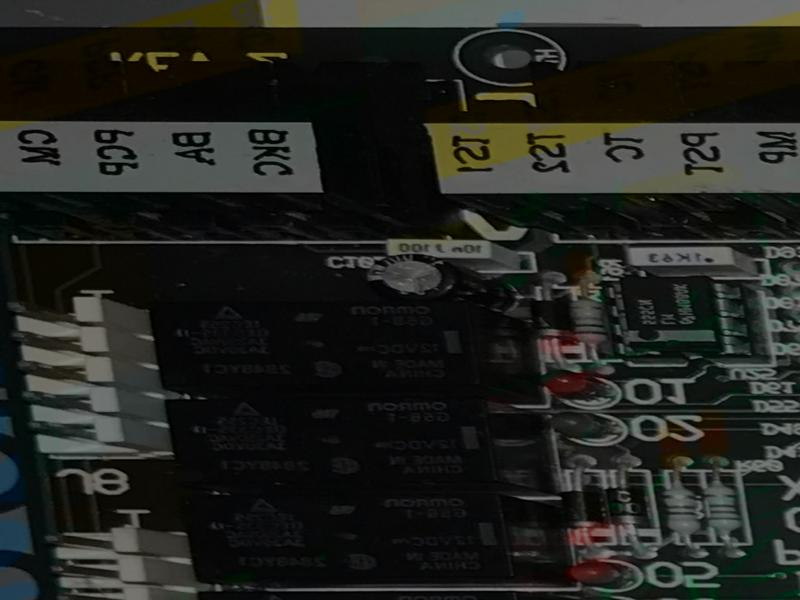Capacitor: (364, 253, 519, 313)
Diode: (557, 480, 605, 537), (604, 480, 648, 535), (536, 296, 568, 345)
LED: (540, 369, 618, 409), (548, 410, 624, 446), (569, 556, 640, 590)
Resistor: (698, 478, 744, 540), (660, 479, 703, 539), (568, 296, 608, 349)
